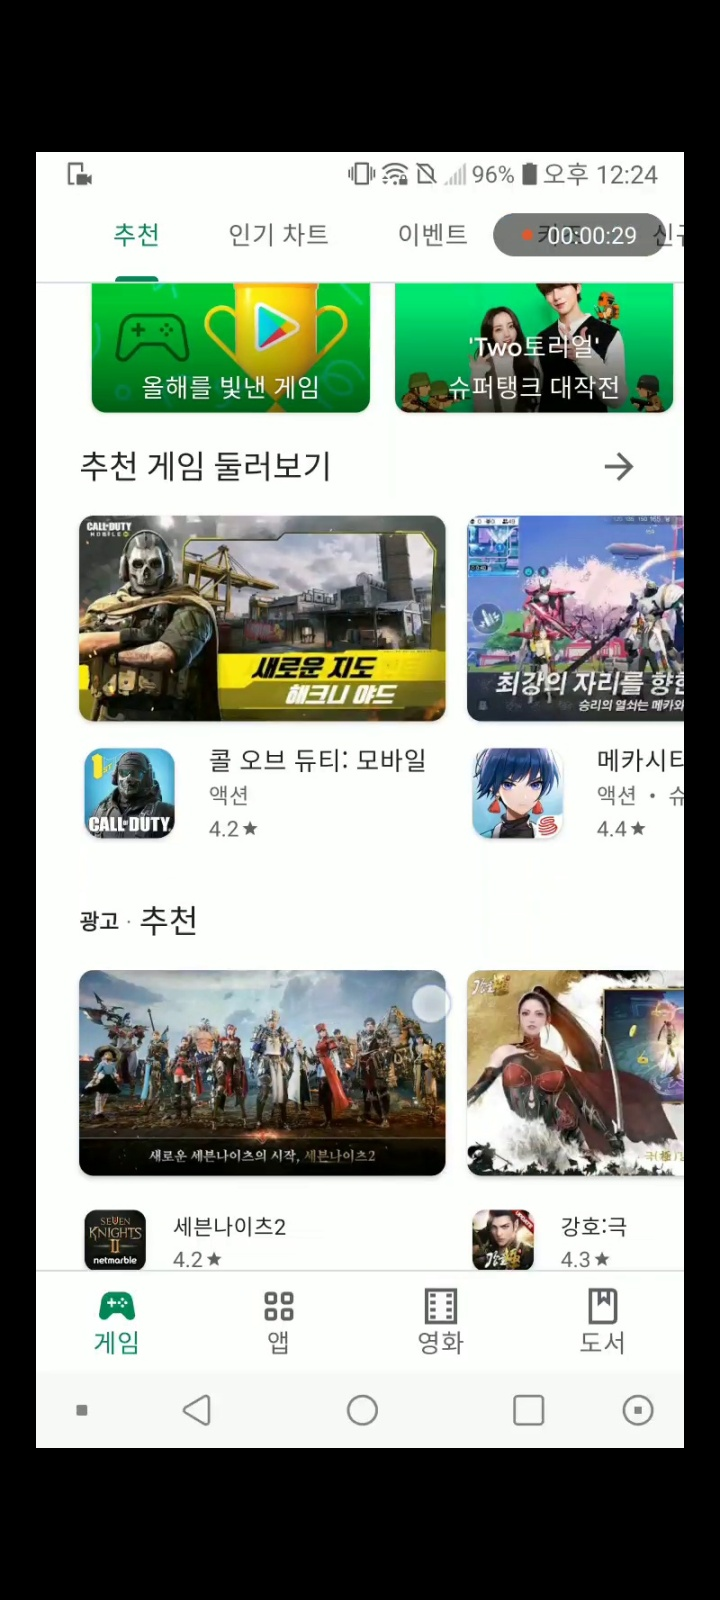Cursor: (410, 980, 455, 1024)
